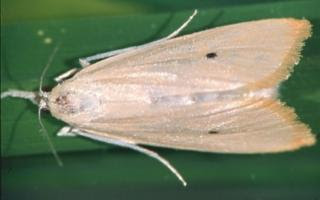Crambidae: (2, 11, 320, 178)
